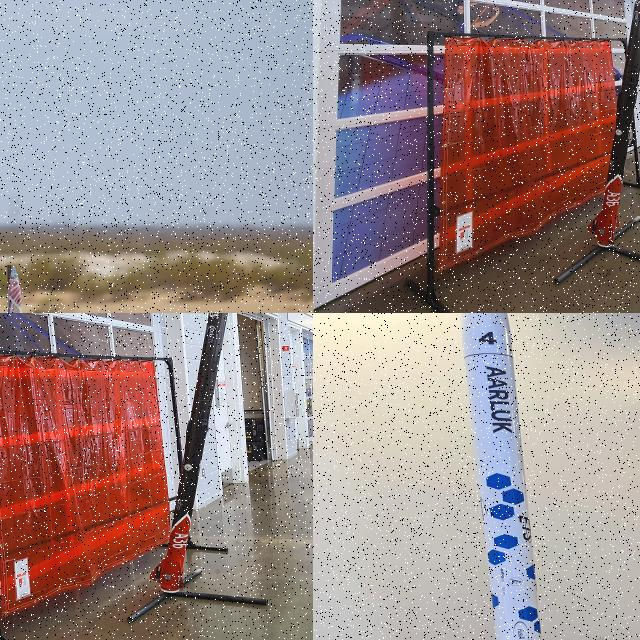Rocket: (461, 313, 542, 640), (150, 313, 228, 591), (0, 264, 36, 313)
